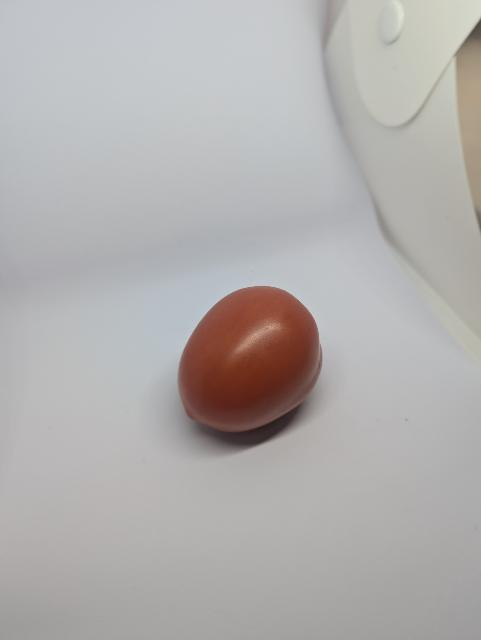red: (170, 280, 333, 439)
